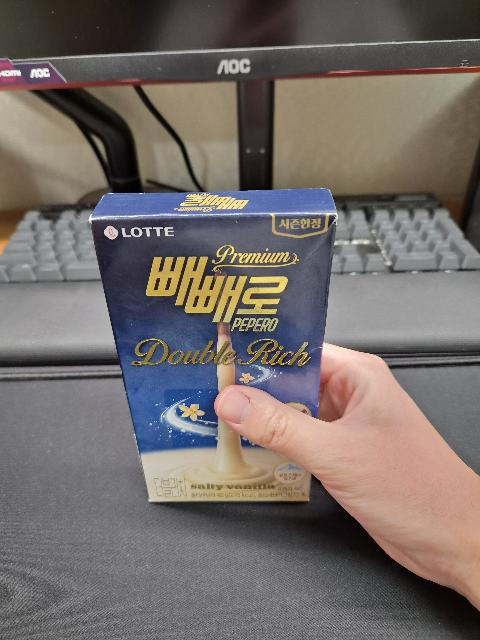pepero: (88, 188, 338, 502)
